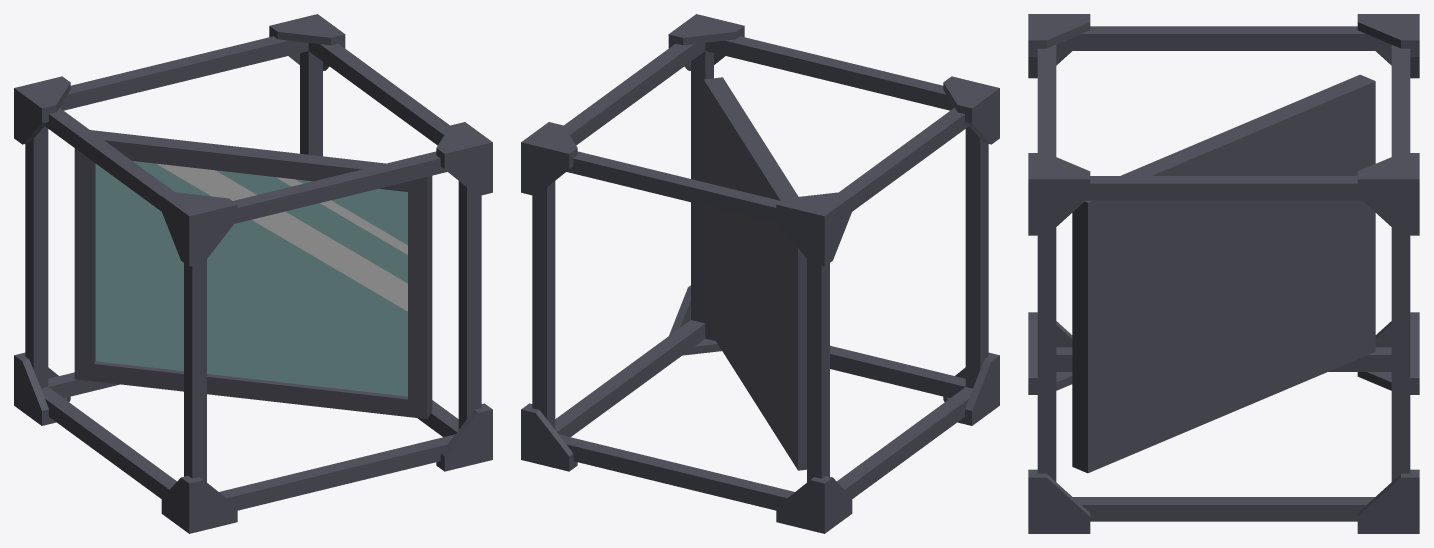
File: mirror.glb
3 renders of one model, left to right at view 1: azimuth 30°, elevation 25°; view 2: azimuth 150°, elevation 25°; view 3: azimuth 270°, elevation 25°, orthographic. The views are drawn at different scales.
Visible parts, largest first — view 1: laser box; view 2: laser box; view 3: laser box.
Part boxes in pixels (x1,y1,x2,y2): laser box: [14, 14, 492, 533]; laser box: [521, 14, 999, 533]; laser box: [1028, 14, 1419, 533].
Size of the model in its own units: 1 by 1 by 1.
